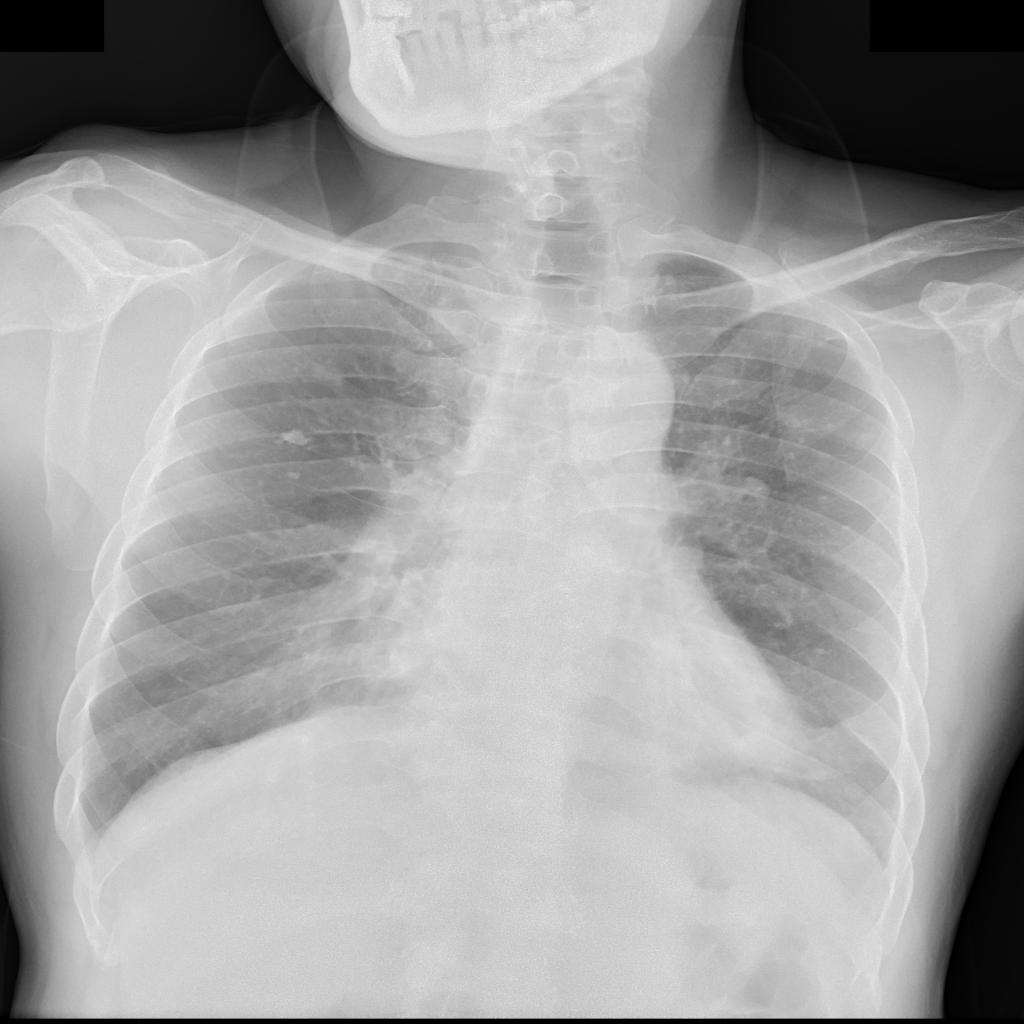Nodule: (767, 387, 881, 539), (283, 425, 313, 448)
